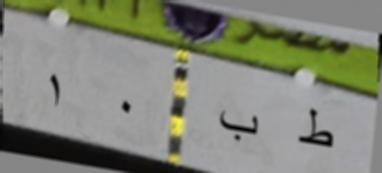0: (116, 91, 136, 122)
1: (44, 68, 66, 112)
Taa: (292, 105, 334, 154)
baa: (216, 106, 262, 150)
